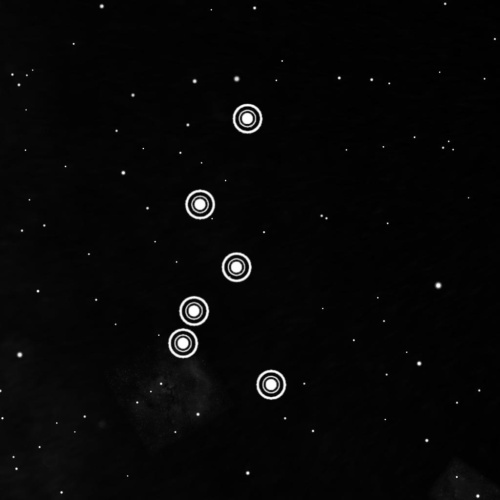cassiopeia: (159, 92, 292, 406)
